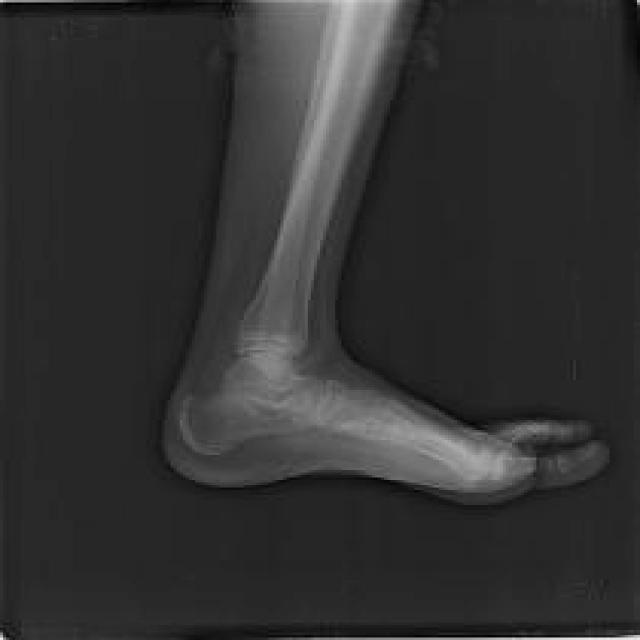normal: (180, 0, 607, 488)
